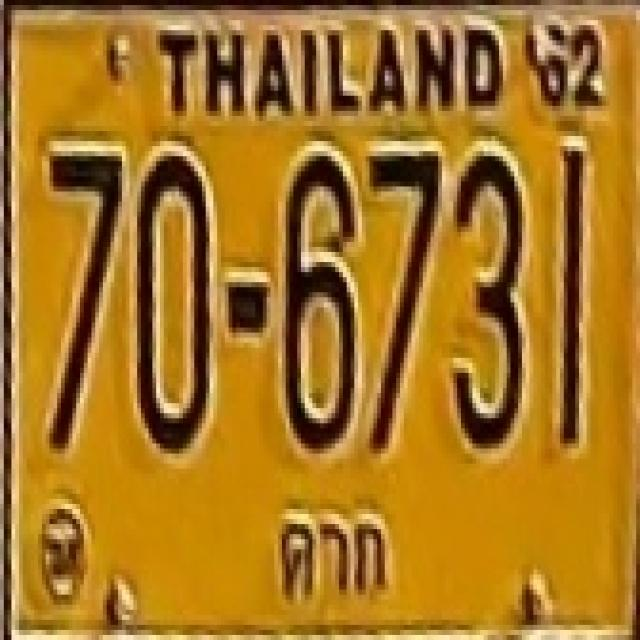0: (133, 151, 210, 454)
1: (560, 148, 583, 416), (560, 146, 583, 393)
3: (449, 154, 522, 446)
6: (282, 154, 354, 451)
7: (48, 151, 120, 454), (366, 149, 438, 451), (48, 151, 120, 358), (368, 151, 440, 353), (48, 151, 120, 333), (366, 149, 438, 330)
TAK: (253, 494, 414, 624)
